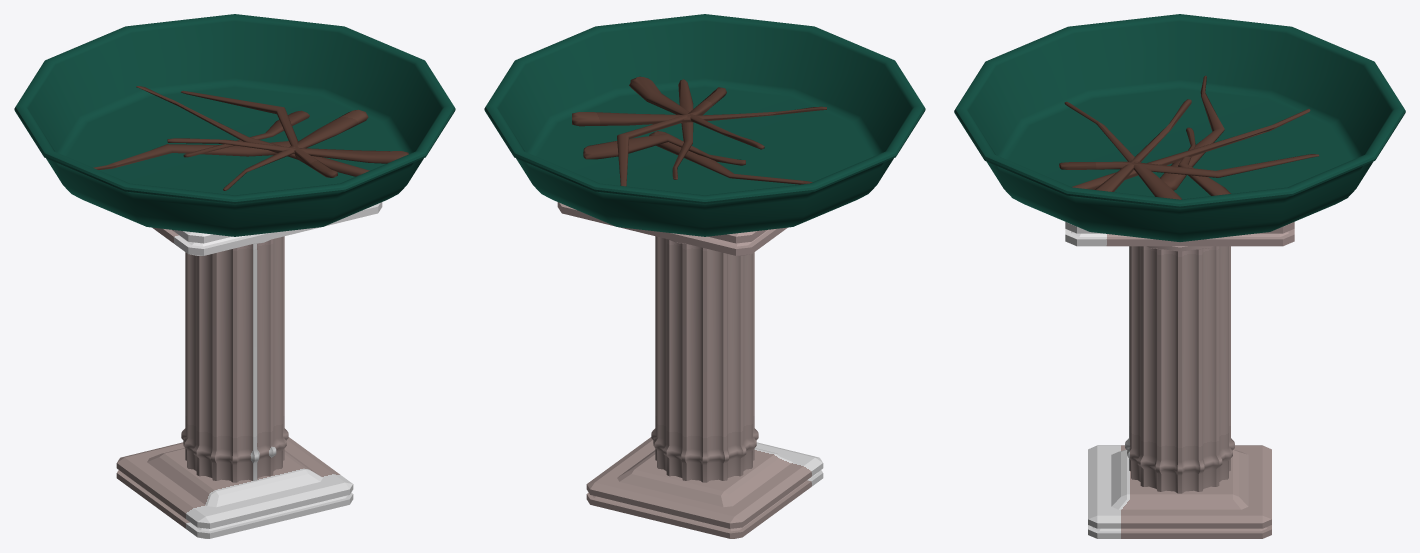
File: SM_groundLantern.fbx
The picture shows the model from 3 angles, left to right: view 1: azimuth 30°, elevation 25°; view 2: azimuth 150°, elevation 25°; view 3: azimuth 270°, elevation 25°; orthographic projection. The views are drawn at different scales.
Parts seen in each view (by area): view 1: SM_groundLantern; view 2: SM_groundLantern; view 3: SM_groundLantern.
Part boxes in pixels (<box>): SM_groundLantern: <box>14,14,455,538</box>; SM_groundLantern: <box>484,14,925,538</box>; SM_groundLantern: <box>954,14,1405,538</box>.
Bounding box in the file's own units: 82.22 × 79.44 × 82.22.
1 material, 1 textured.
